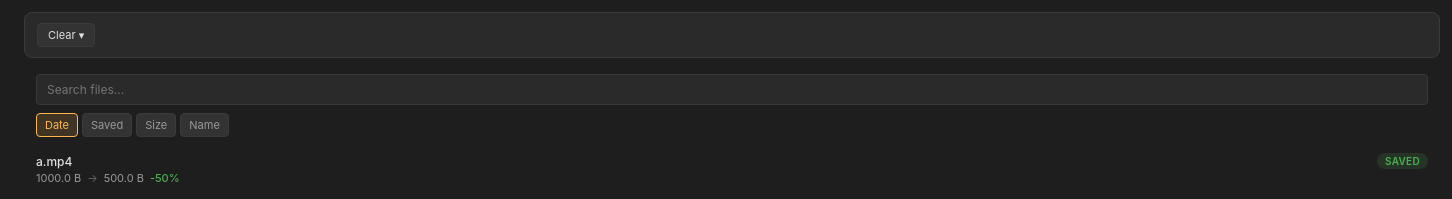
HistoryPage › context menu › opens the surviving file via open_path and closes
Right-click the text "a.mp4": (54, 161) [36,154,72,168]
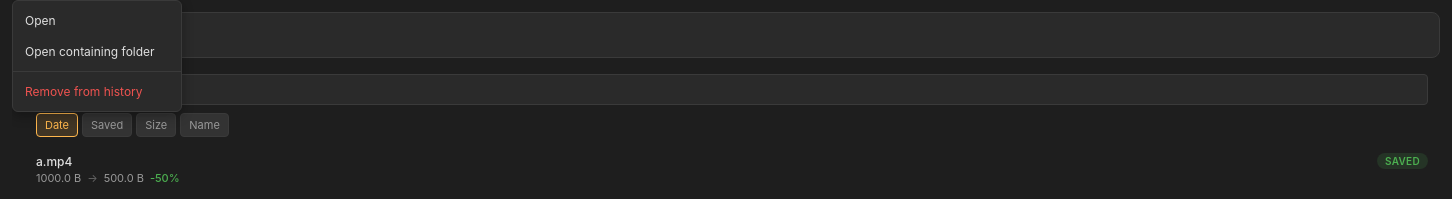
Result: the menu item "Open" is enabled
Click the menu item "Open": (97, 20) [13,5,181,36]
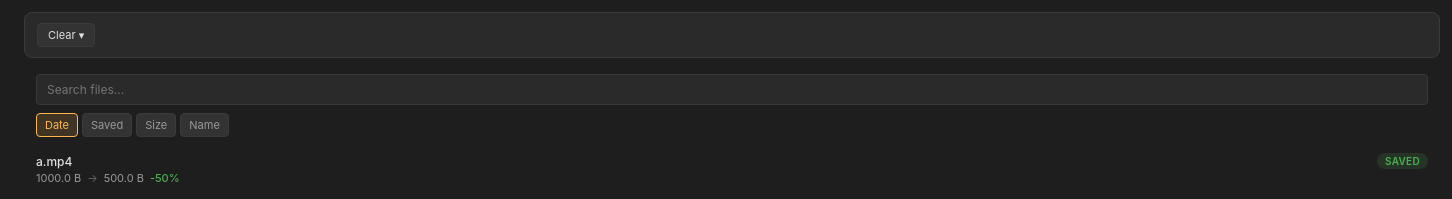
Result: the menu is gone
